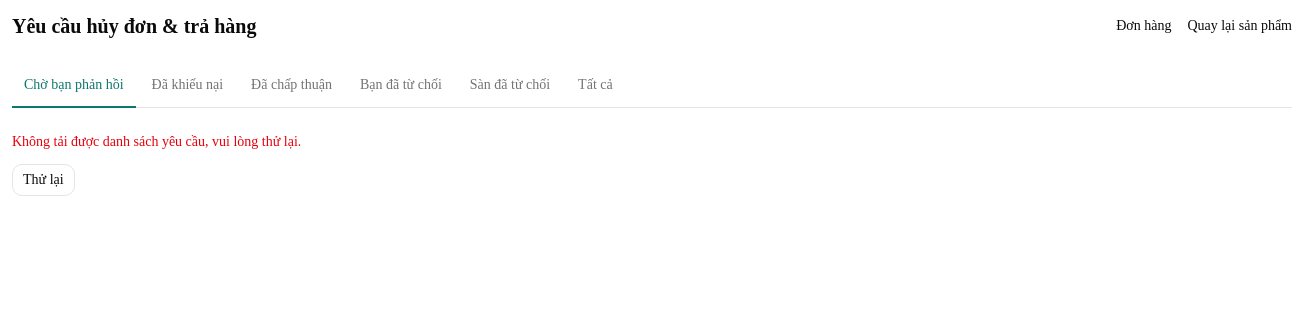
SellerRefundRequestsContainer › lỗi tải lần đầu: thông báo có role=alert + nút "Thử lại" tải lại được
Expected: the message shows "Không tải được danh sách yêu cầu", [12,134,301,149]
Click the button "Thử lại" at (43, 180), box [12,164,75,196]
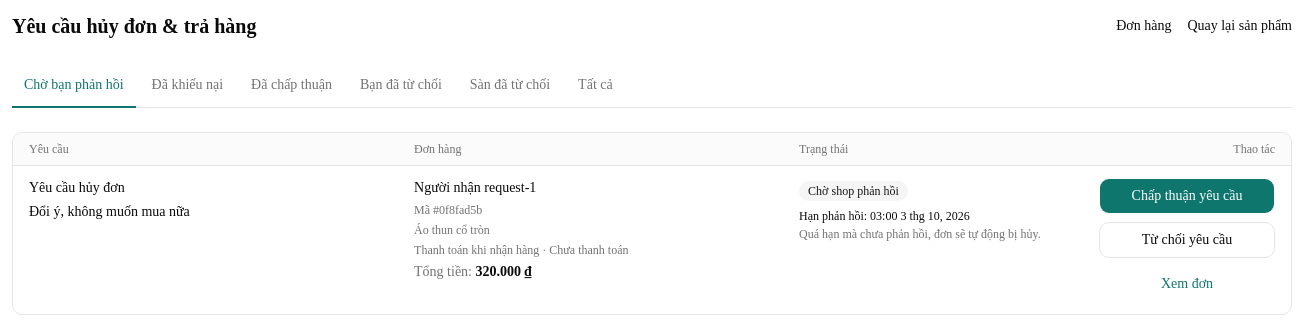
Expected: the text "Người nhận request-1" is shown, [414,180,536,195]
Expected: the message "Không tải được danh sách yêu cầu, vui lòng thử lại." is gone
